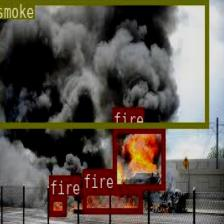fire: (113, 127, 164, 189), (82, 188, 142, 213), (48, 195, 65, 216)
smoke: (0, 0, 208, 126)
